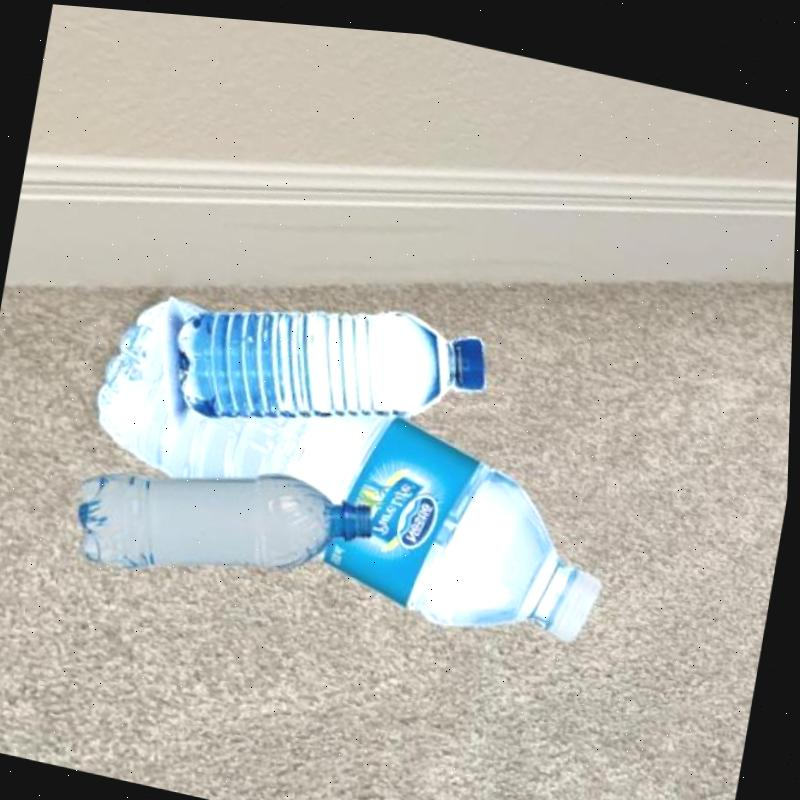botella: (68, 270, 640, 665), (161, 258, 494, 471), (64, 429, 372, 613)
